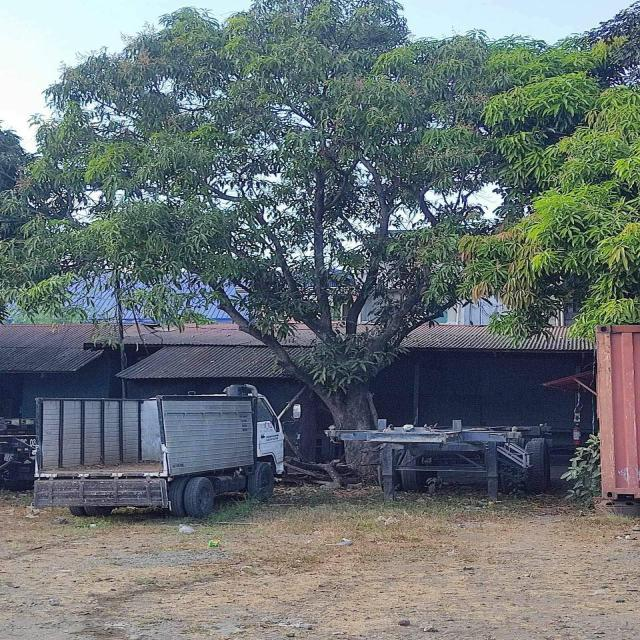Mango-Tree: (54, 13, 535, 423)
